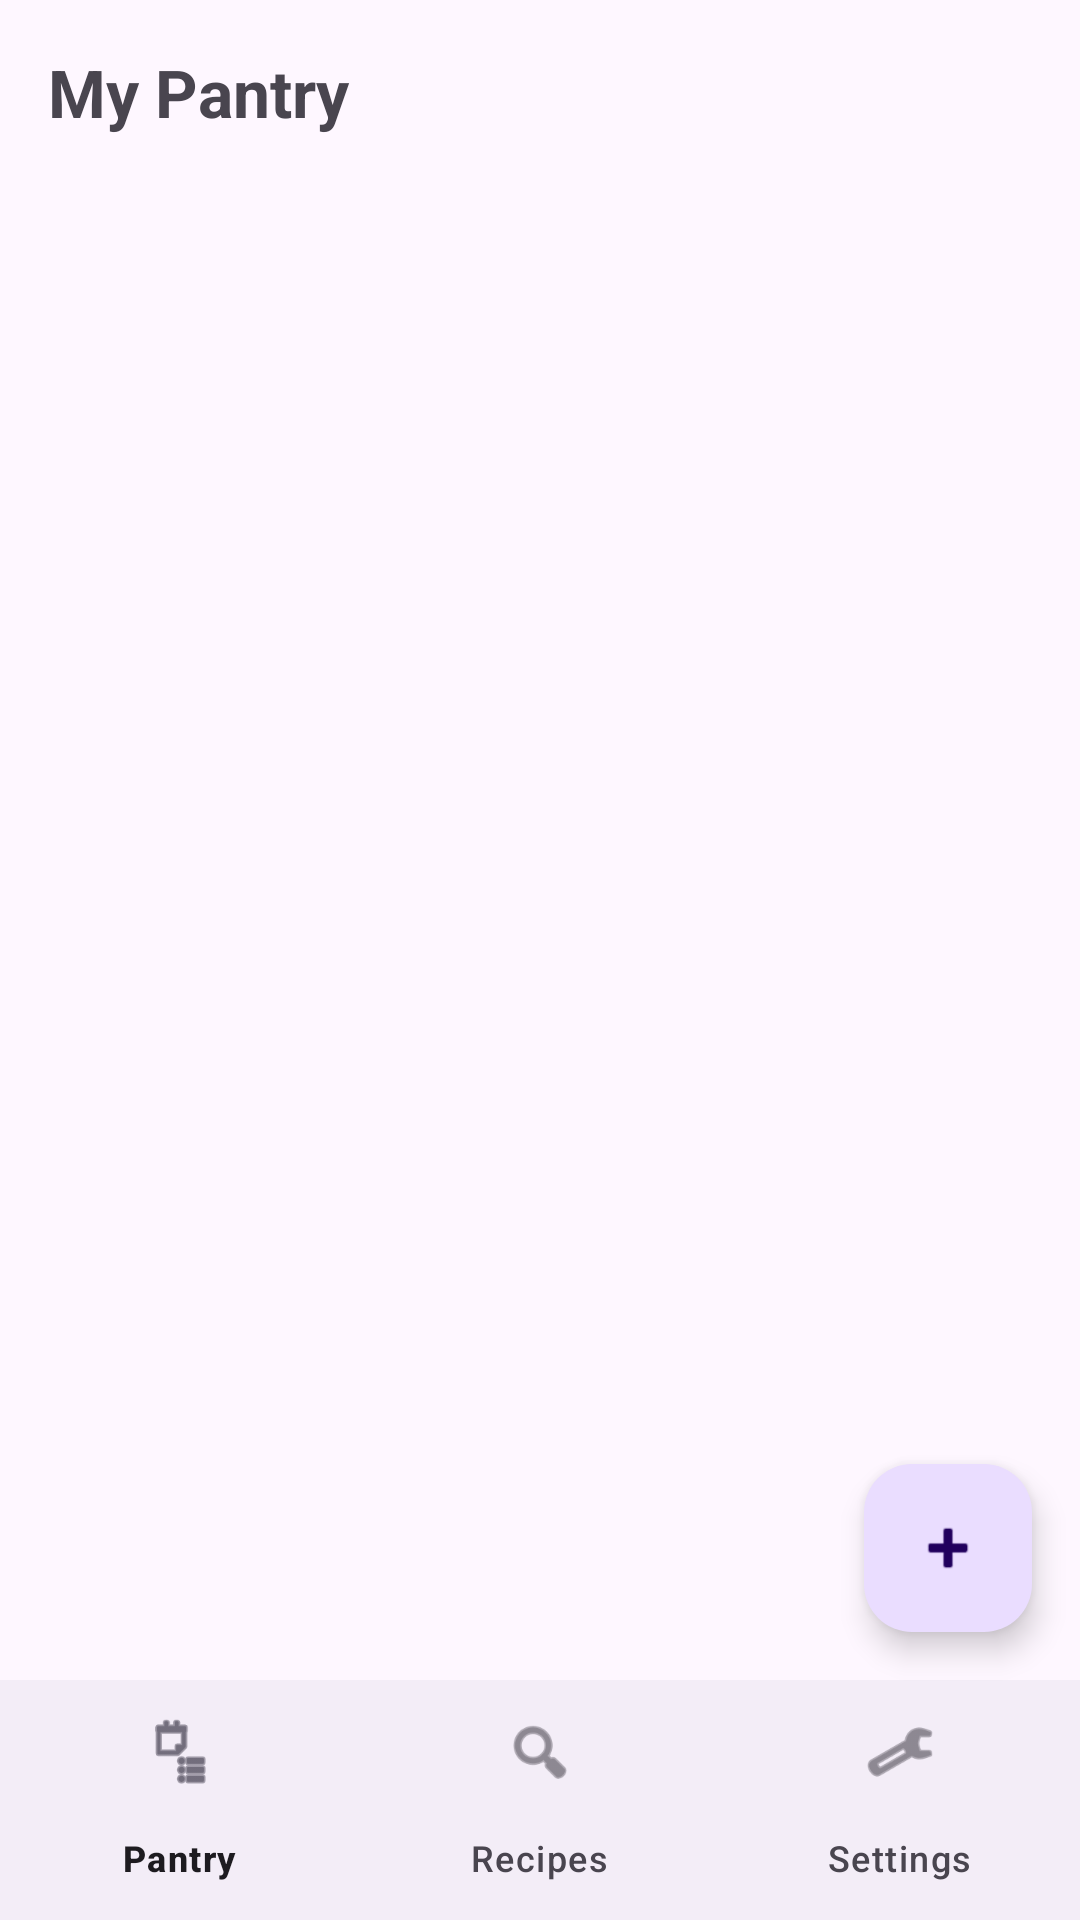

Icon bounding boxes for this 1080w x 1920h phone screenshot, format bbox=(x1, y1, x2, y2):
Add pantry item: bbox=(864, 1464, 1032, 1632)
